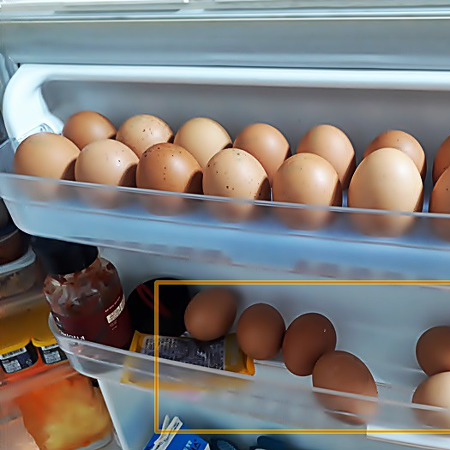egg: (13, 110, 450, 239), (179, 284, 450, 427)
